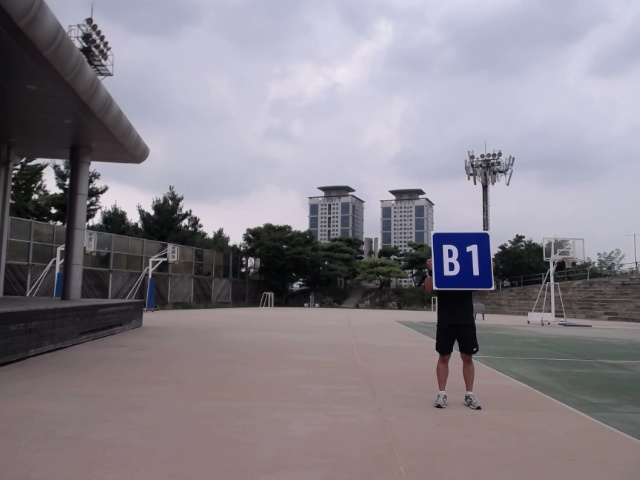delivery_b1: (431, 231, 494, 290)
